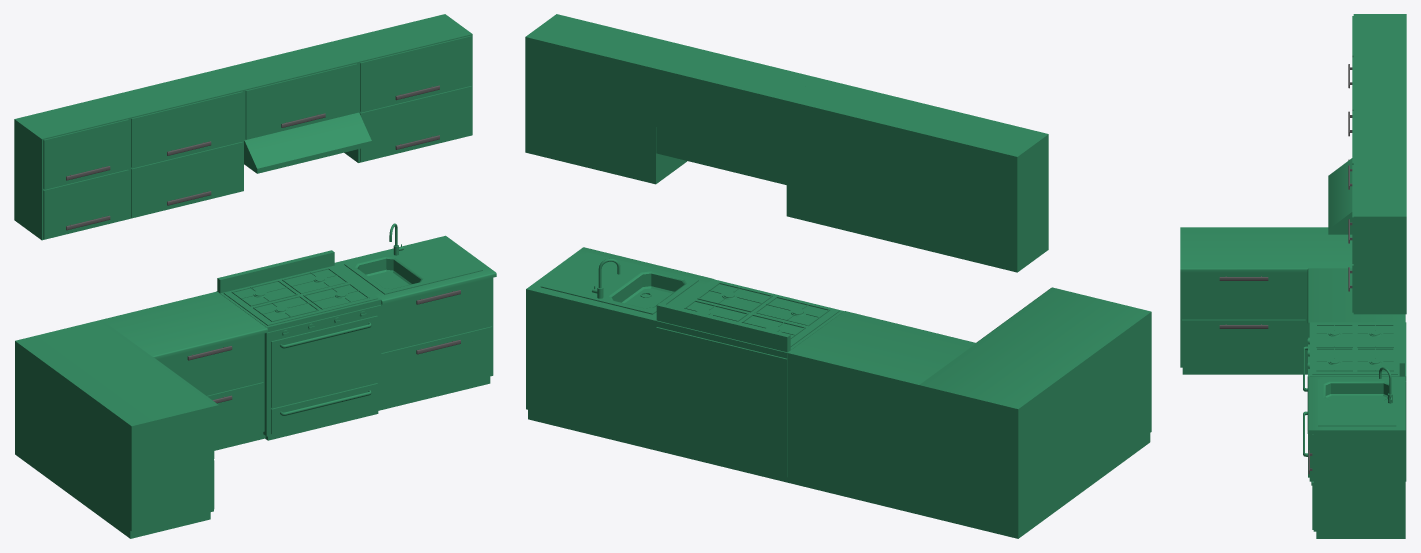
File: mcp_kitchen_full.FBX
3 views of the same model, side by side, from view 1: azimuth 30°, elevation 25°; view 2: azimuth 150°, elevation 25°; view 3: azimuth 270°, elevation 25° (orthographic). The views are drawn at different scales.
Visible parts, largest first — view 1: mcp_kitchen_full, mcp_kitchen_knobs; view 2: mcp_kitchen_full; view 3: mcp_kitchen_full, mcp_kitchen_knobs.
Part boxes in pixels (<box>): mcp_kitchen_full: <box>14,14,496,538</box>; mcp_kitchen_knobs: <box>66,85,460,403</box>; mcp_kitchen_full: <box>525,14,1151,538</box>; mcp_kitchen_full: <box>1180,14,1406,538</box>; mcp_kitchen_knobs: <box>1219,64,1352,474</box>.
Size of the model in its own units: 422 by 314 by 199.
